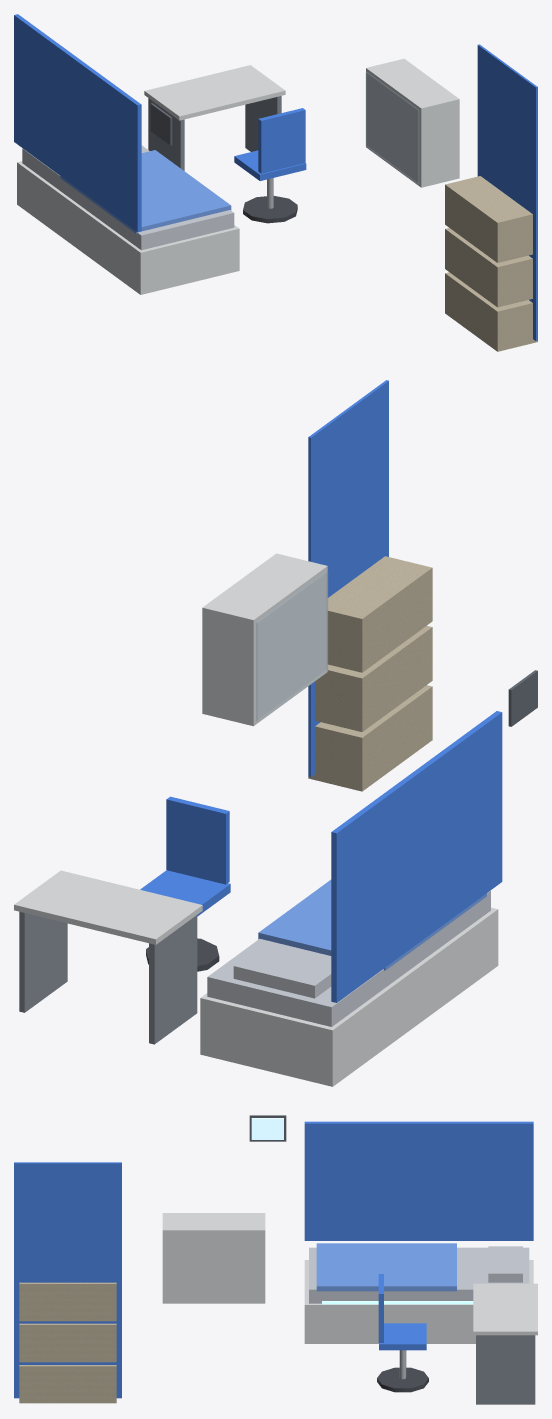
File: crew_pod_1.glb
The picture shows the model from 3 angles, top to bottom: view 1: azimuth 30°, elevation 25°; view 2: azimuth 150°, elevation 25°; view 3: azimuth 270°, elevation 25°; orthographic projection. The views are drawn at different scales.
Parts seen in each view (by area): view 1: white_plastic, fabric, glass; view 2: white_plastic, fabric, glass; view 3: white_plastic, fabric, glow_8cb3e6_0_3, glow_33e680_1_5.
Boxes of the visible parts, left/top/right/bottom form: white_plastic: left=14, top=14, right=537, bottom=340; fabric: left=445, top=176, right=537, bottom=351; glass: left=366, top=72, right=419, bottom=184; white_plastic: left=14, top=380, right=537, bottom=1086; fabric: left=308, top=556, right=432, bottom=791; glass: left=256, top=571, right=327, bottom=721; white_plastic: left=14, top=1115, right=537, bottom=1404; fabric: left=19, top=1282, right=116, bottom=1403; glow_8cb3e6_0_3: left=251, top=1118, right=283, bottom=1139; glow_33e680_1_5: left=322, top=1301, right=473, bottom=1304.
Size of the model in its own units: 2.44 by 2.5 by 4.85.
6 materials, 6 textured.
